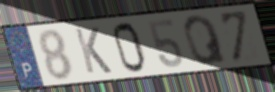0: (112, 21, 149, 74)
5: (145, 17, 184, 69)
7: (218, 9, 250, 64)
8: (37, 26, 75, 81)
K: (72, 26, 114, 76)
Q: (181, 13, 229, 67)
